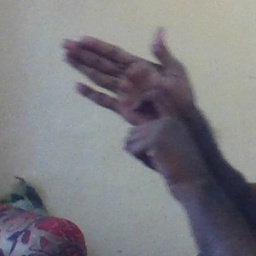R: (61, 21, 198, 162)
